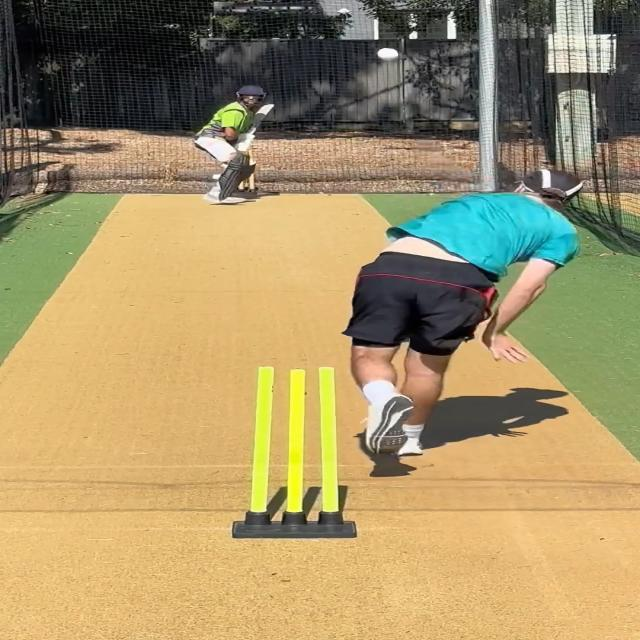ball: (372, 45, 402, 63)
stump: (228, 362, 358, 540)
